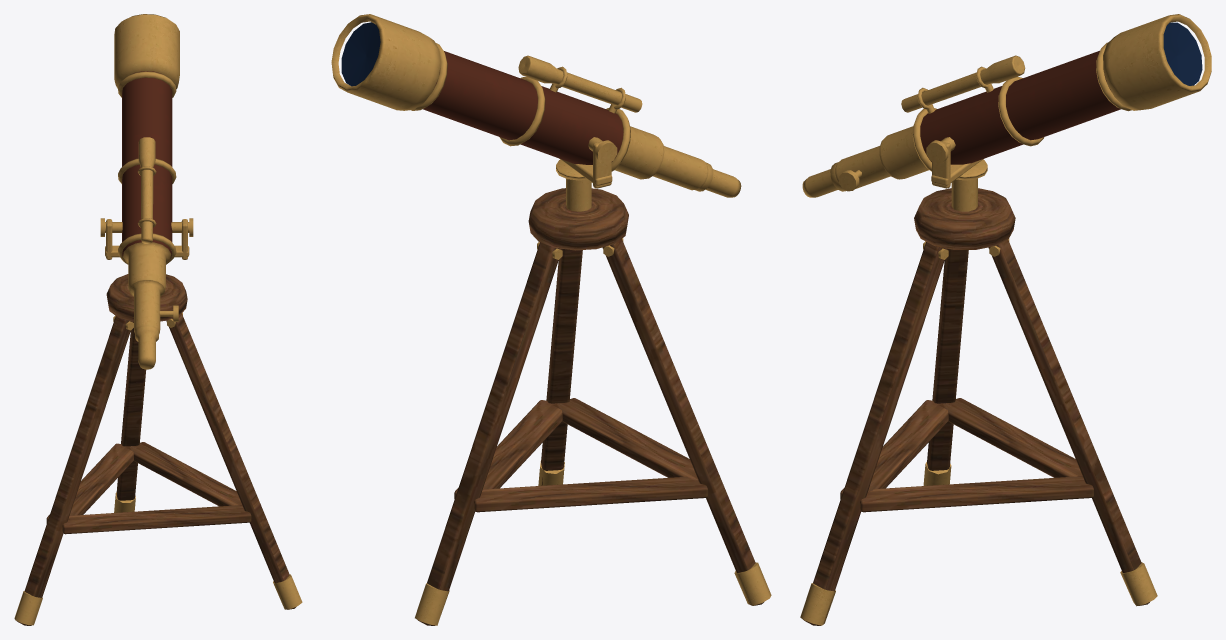
The model's file is prop_telescope.glb.
3 renders of one model, left to right at view 1: azimuth 30°, elevation 25°; view 2: azimuth 150°, elevation 25°; view 3: azimuth 270°, elevation 25°, orthographic. The views are drawn at different scales.
Visible parts, largest first — view 1: prop; view 2: prop; view 3: prop.
Part boxes in pixels (box(x1,y1,x2,y2)): prop: box(14, 14, 302, 625); prop: box(331, 14, 771, 625); prop: box(800, 14, 1211, 625).
Bounding box in the file's own units: 0.5652 × 1.02 × 0.6318.
Materials: 4 (3 with a texture image).
